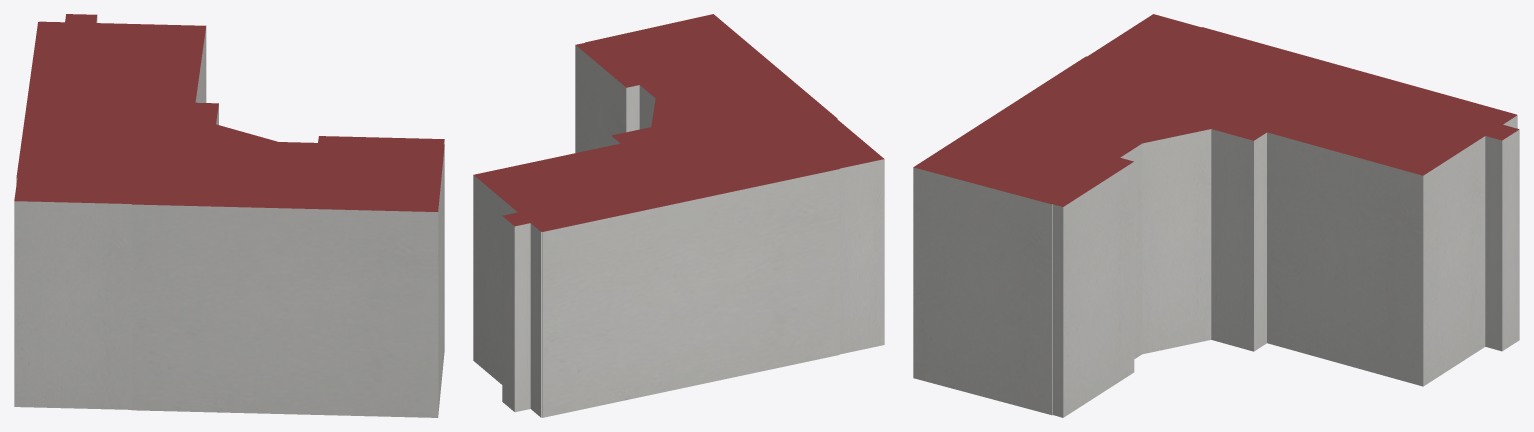
File: Building.dae
3 views of the same model, side by side, from view 1: azimuth 30°, elevation 25°; view 2: azimuth 150°, elevation 25°; view 3: azimuth 270°, elevation 25° (orthographic). The views are drawn at different scales.
Parts seen in each view (by area): view 1: Building_12874401 (×5); view 2: Building_12874401 (×10); view 3: Building_12874401 (×12).
Part boxes in pixels (bbox=[...]): Building_12874401 (×5): bbox=[14, 14, 444, 417]; Building_12874401 (×10): bbox=[473, 14, 884, 417]; Building_12874401 (×12): bbox=[913, 14, 1519, 417].
Size of the model in its own units: 1323 by 1756 by 674.
Materials: 2 (1 with a texture image).
